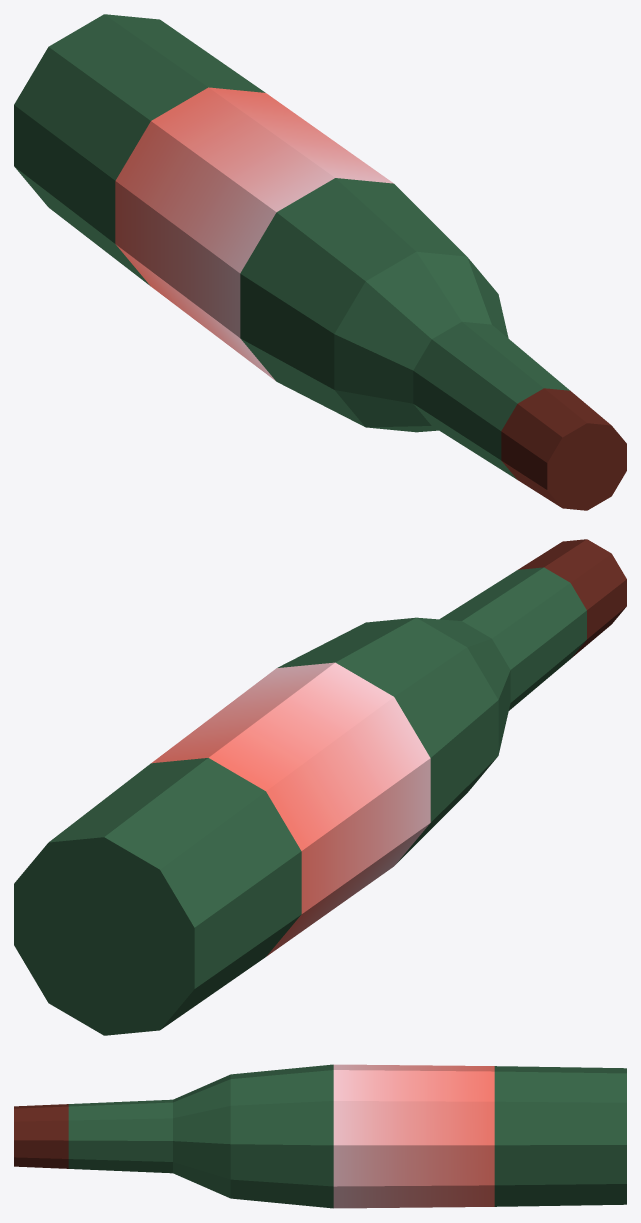
Rendered from WineBottle.fbx.
3 renders of one model, top to bottom at view 1: azimuth 30°, elevation 25°; view 2: azimuth 150°, elevation 25°; view 3: azimuth 270°, elevation 25°, orthographic. The views are drawn at different scales.
Parts seen in each view (by area): view 1: Cylinder; view 2: Cylinder; view 3: Cylinder.
Boxes of the visible parts, x1,y1,x2,y2 form: Cylinder: (14, 14, 626, 510); Cylinder: (14, 539, 626, 1035); Cylinder: (14, 1064, 626, 1208).
Size of the model in its own units: 0.0906 by 0.0953 by 0.3981.
